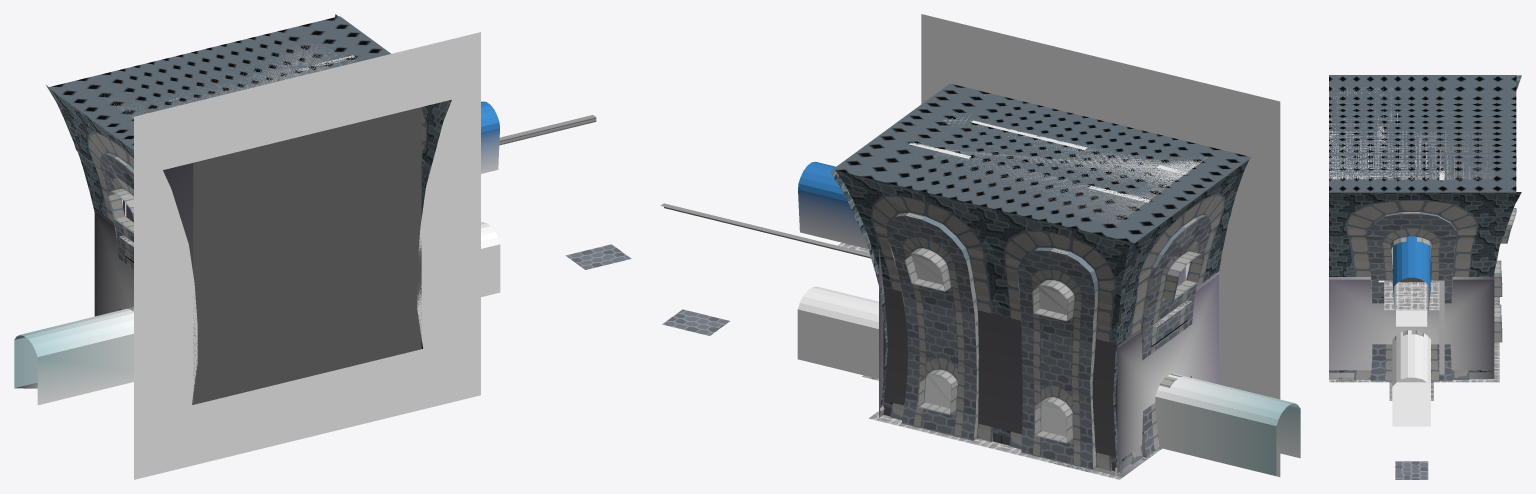
The model's file is gon_00.dae.
The picture shows the model from 3 angles, left to right: view 1: azimuth 30°, elevation 25°; view 2: azimuth 150°, elevation 25°; view 3: azimuth 270°, elevation 25°; orthographic projection. The views are drawn at different scales.
Parts seen in each view (by area): view 1: kuro, a_kabemae, yuka04, polySurface404_q010, a_kabeyoko, polySurface793_q040_part2, polySurface793_q040_part0, a_ten_01, polySurface758_q011, polySurface797_q041_part0, polySurface760_q012, polySurface793_q040_part1 (+2 smaller); view 2: kuro, yuka04, polySurface789_q046_part2, polySurface789_q046_part1, polySurface404_q010, a_kabeoku, a_kabeyoko, polySurface789_q046_part0, a_ten_01, polySurface758_q011, polySurface793_q040_part2, polySurface793_q040_part0 (+8 smaller); view 3: yuka04, a_kabeyoko, polySurface797_q041_part2, polySurface797_q041_part0, polySurface797_q041_part1, a_ten_01, polySurface758_q011, polySurface402_q008, polySurface760_q012, polySurface403_q038, polySurface789_q046_part2, polySurface403_q009 (+3 smaller).
Boxes of the visible parts, bbox=[...] form: kuro: bbox=[134, 32, 480, 479]; a_kabemae: bbox=[193, 107, 421, 404]; yuka04: bbox=[48, 16, 390, 149]; polySurface404_q010: bbox=[14, 308, 133, 405]; a_kabeyoko: bbox=[94, 163, 193, 404]; polySurface793_q040_part2: bbox=[87, 130, 193, 404]; polySurface793_q040_part0: bbox=[46, 85, 133, 217]; a_ten_01: bbox=[101, 35, 355, 118]; polySurface758_q011: bbox=[481, 222, 500, 296]; polySurface797_q041_part0: bbox=[335, 14, 451, 216]; polySurface760_q012: bbox=[481, 101, 499, 173]; polySurface793_q040_part1: bbox=[100, 154, 133, 310]; kuro: bbox=[921, 14, 1280, 476]; yuka04: bbox=[832, 83, 1251, 243]; polySurface789_q046_part2: bbox=[870, 195, 1121, 473]; polySurface789_q046_part1: bbox=[886, 215, 1094, 469]; polySurface404_q010: bbox=[1155, 373, 1300, 475]; a_kabeoku: bbox=[883, 287, 1117, 471]; a_kabeyoko: bbox=[879, 248, 1218, 473]; polySurface789_q046_part0: bbox=[835, 170, 1134, 462]; a_ten_01: bbox=[910, 95, 1206, 224]; polySurface758_q011: bbox=[797, 286, 878, 378]; polySurface793_q040_part2: bbox=[1115, 192, 1224, 475]; polySurface793_q040_part0: bbox=[1113, 159, 1249, 465]; yuka04: bbox=[1329, 75, 1516, 192]; a_kabeyoko: bbox=[1329, 247, 1494, 378]; polySurface797_q041_part2: bbox=[1329, 200, 1493, 381]; polySurface797_q041_part0: bbox=[1329, 192, 1521, 371]; polySurface797_q041_part1: bbox=[1366, 213, 1456, 381]; a_ten_01: bbox=[1329, 88, 1494, 179]; polySurface758_q011: bbox=[1392, 330, 1430, 386]; polySurface402_q008: bbox=[1392, 382, 1430, 426]; polySurface760_q012: bbox=[1393, 236, 1430, 325]; polySurface403_q038: bbox=[1384, 282, 1439, 310]; polySurface789_q046_part2: bbox=[1487, 158, 1516, 379]; polySurface403_q009: bbox=[1396, 282, 1427, 326].
Size of the model in its own units: 103 by 60 by 35.
